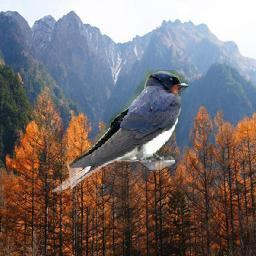Swallow: (54, 70, 189, 196)
